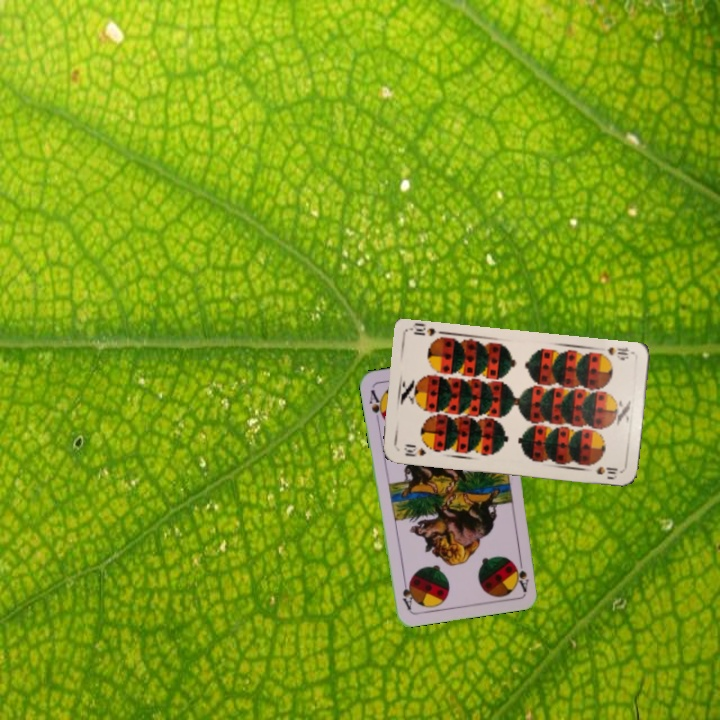S10: (594, 343, 635, 362), (400, 442, 428, 459)
SA: (365, 386, 387, 424), (512, 553, 531, 594)
